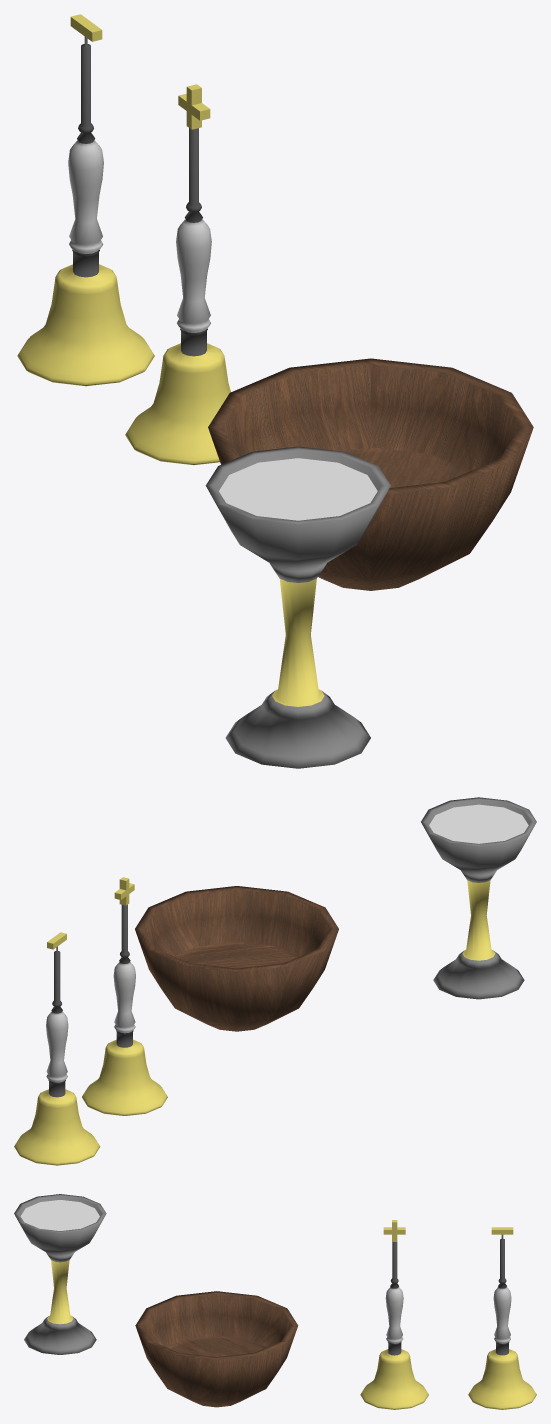
The model's file is TableProps.fbx.
3 renders of one model, top to bottom at view 1: azimuth 30°, elevation 25°; view 2: azimuth 150°, elevation 25°; view 3: azimuth 270°, elevation 25°, orthographic. The views are drawn at different scales.
Parts seen in each view (by area): view 1: Bowl, Goblet, AddBell.001, AddBell; view 2: Bowl, Goblet, AddBell, AddBell.001; view 3: Bowl, Goblet, AddBell, AddBell.001.
Part boxes in pixels (<box>): Bowl: <box>208,358,533,590</box>; Goblet: <box>205,446,390,768</box>; AddBell.001: <box>17,14,154,386</box>; AddBell: <box>125,84,230,465</box>; Bowl: <box>135,886,338,1031</box>; Goblet: <box>421,797,536,999</box>; AddBell: <box>82,877,167,1115</box>; AddBell.001: <box>14,932,100,1165</box>; Bowl: <box>135,1291,298,1407</box>; Goblet: <box>14,1194,106,1354</box>; AddBell: <box>360,1220,428,1409</box>; AddBell.001: <box>468,1227,536,1409</box>.
Bounding box in the file's own units: 56.86 × 42.18 × 114.
